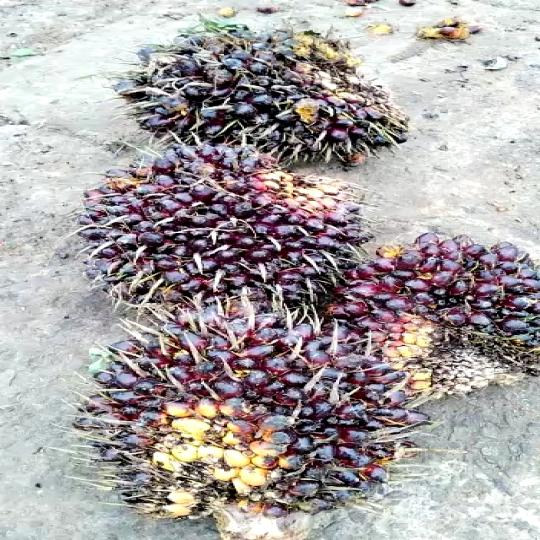kurang masak: (62, 306, 446, 540), (53, 158, 395, 326), (108, 31, 418, 184), (342, 201, 540, 408)
